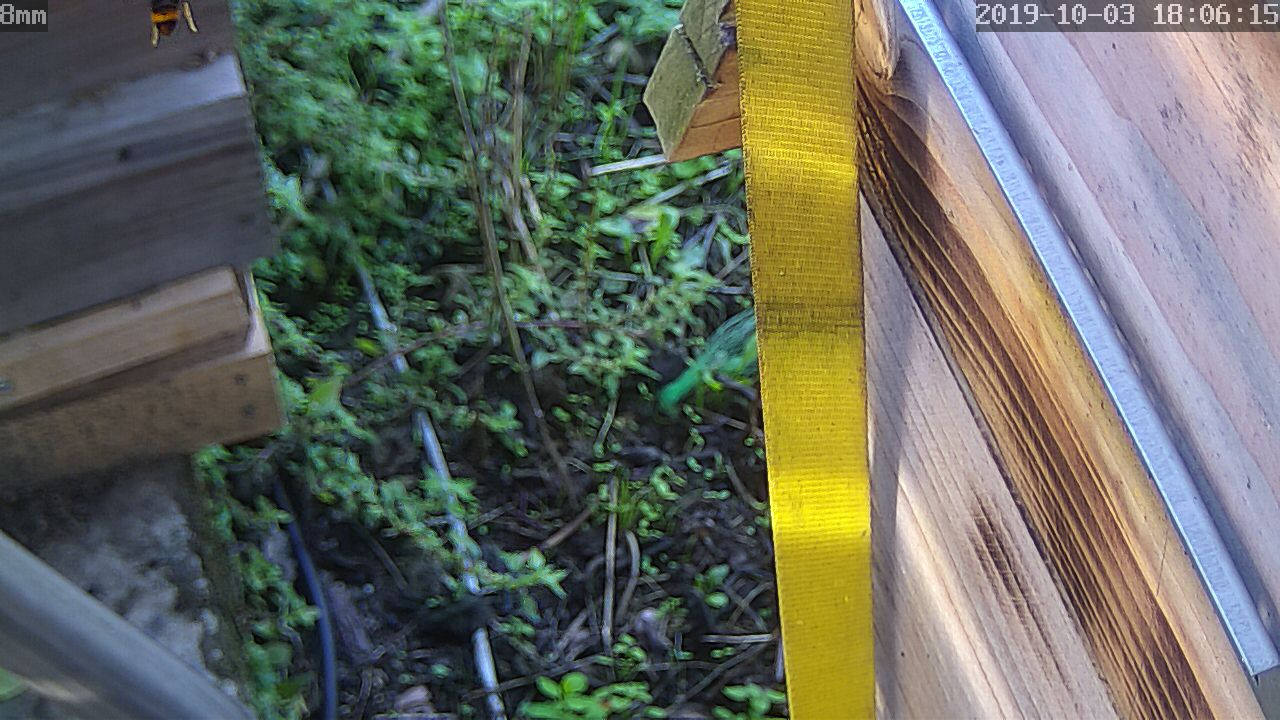hornet: (123, 0, 212, 43)
